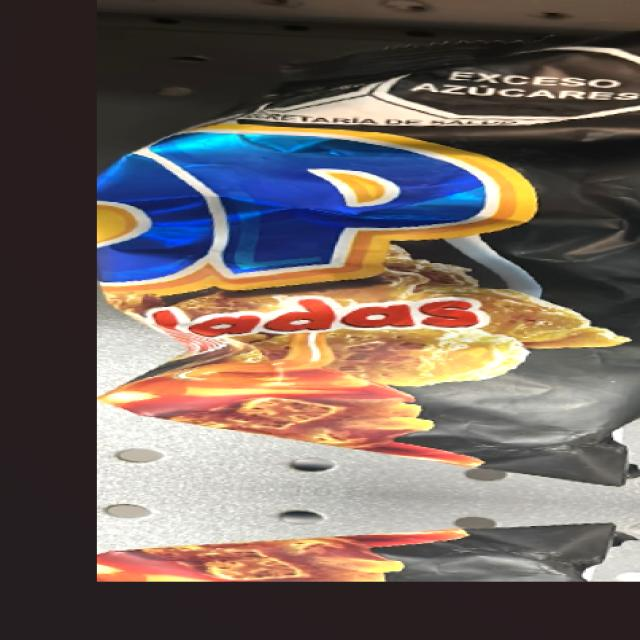popKarameladas: (131, 56, 622, 468)
